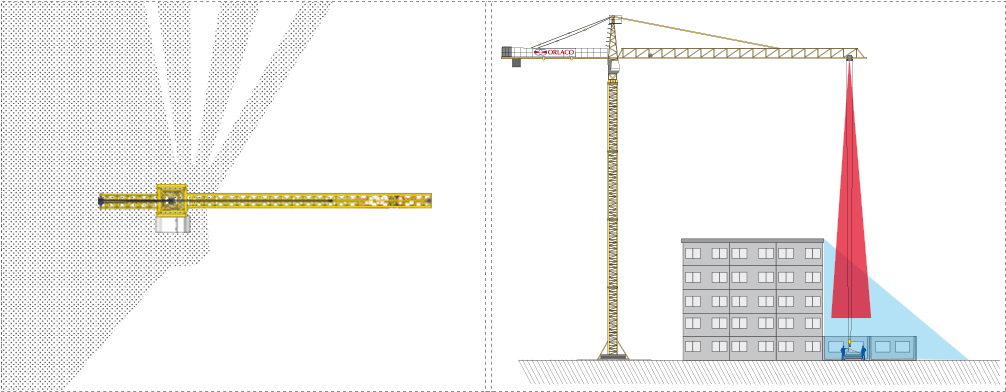crane: (501, 26, 866, 62), (596, 14, 630, 359), (99, 186, 433, 214)
